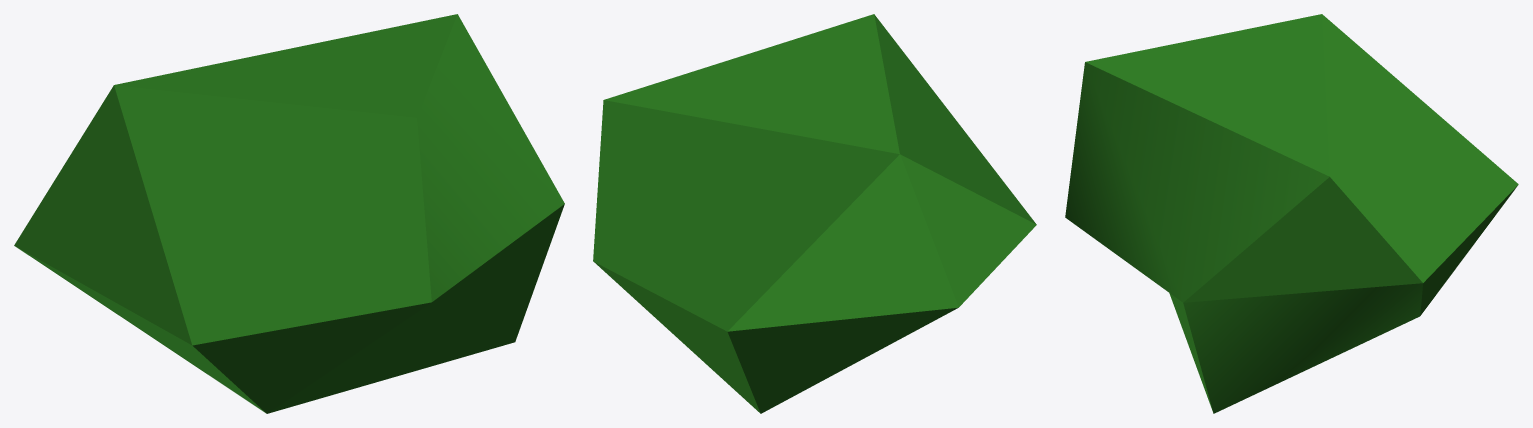
File: SM_Bush_T2.fbx
The picture shows the model from 3 angles, left to right: view 1: azimuth 30°, elevation 25°; view 2: azimuth 150°, elevation 25°; view 3: azimuth 270°, elevation 25°; orthographic projection. The views are drawn at different scales.
Visible parts, largest first — view 1: SM_Bush_T2; view 2: SM_Bush_T2; view 3: SM_Bush_T2.
Boxes of the visible parts, <box> form: SM_Bush_T2: <box>14,14,564,413</box>; SM_Bush_T2: <box>593,14,1036,413</box>; SM_Bush_T2: <box>1065,14,1518,413</box>.
Size of the model in its own units: 14.54 by 9.76 by 14.39.
